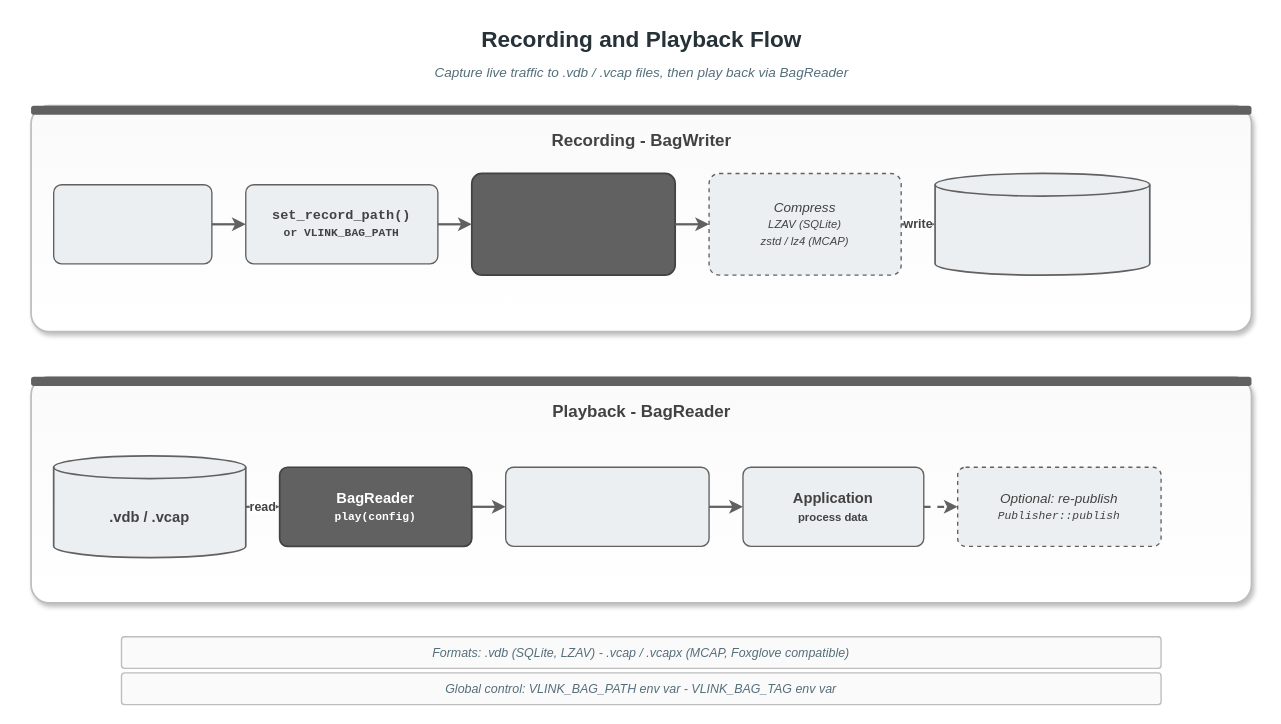
This 1281x724 diagram has some shape labels left out. The centre of each missing label's shape, as x and y in pixels:
".vdb (SQLite) .vcap / .vcapx (MCAP)" goes at point 1042,223.
"BagWriter push(url, ser, schema, action, data)" goes at point 573,223.
"output_callback (ts, url, action, data)" goes at point 606,506.
"Publisher publish(msg)" goes at point 132,224.
